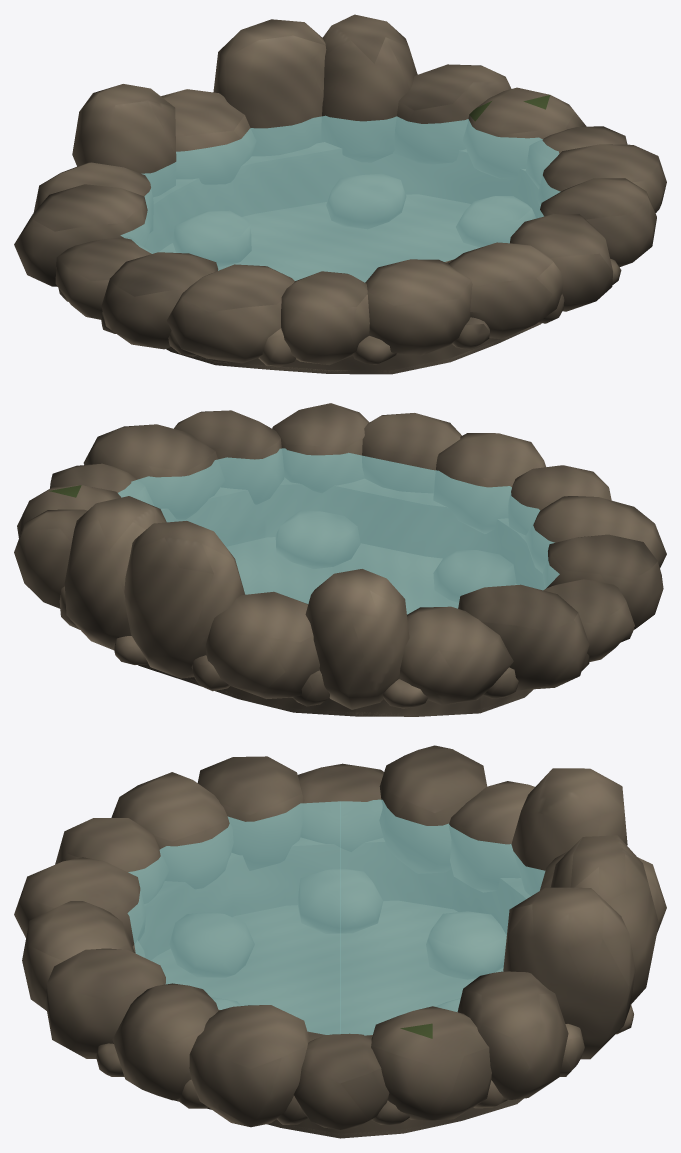
The model's file is Furn_Spa_RockTub.fbx.
3 renders of one model, top to bottom at view 1: azimuth 30°, elevation 25°; view 2: azimuth 150°, elevation 25°; view 3: azimuth 270°, elevation 25°, orthographic. The views are drawn at different scales.
Parts seen in each view (by area): view 1: Furn_Spa_RockTub, Water; view 2: Furn_Spa_RockTub, Water; view 3: Furn_Spa_RockTub, Water.
Part boxes in pixels (x1=…): Furn_Spa_RockTub: x1=14, y1=14, x2=666, y2=374; Water: x1=120, y1=115, x2=560, y2=282; Furn_Spa_RockTub: x1=14, y1=403, x2=666, y2=716; Water: x1=118, y1=448, x2=559, y2=614; Furn_Spa_RockTub: x1=14, y1=745, x2=666, y2=1138; Water: x1=127, y1=799, x2=545, y2=1035.
Size of the model in its own units: 4.4 by 1.22 by 3.8.
2 materials, 1 textured.
